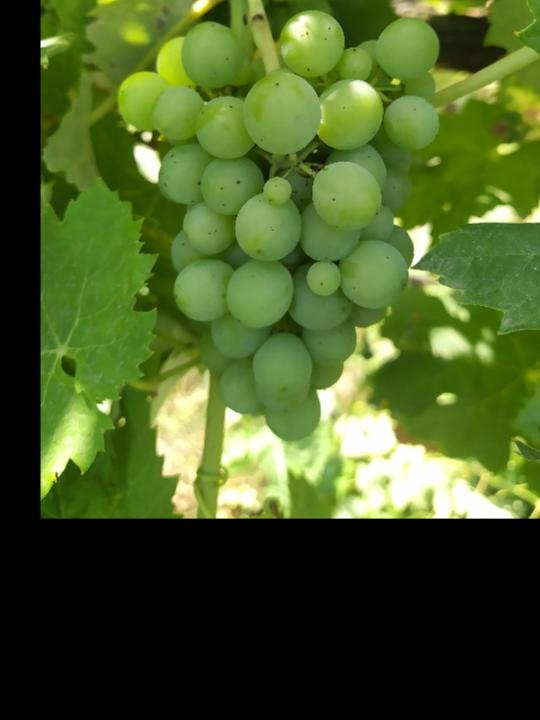grape: (115, 9, 442, 445)
